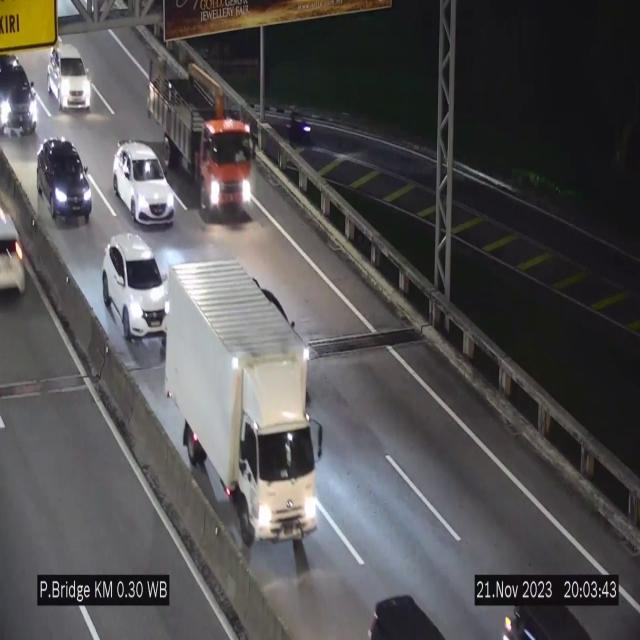Car: (112, 140, 175, 225), (38, 139, 92, 223), (0, 36, 37, 158), (0, 194, 28, 316), (47, 42, 91, 112)
Motorcycle: (283, 100, 315, 156)
Truck: (167, 263, 325, 552), (146, 51, 254, 221), (101, 229, 170, 344)
